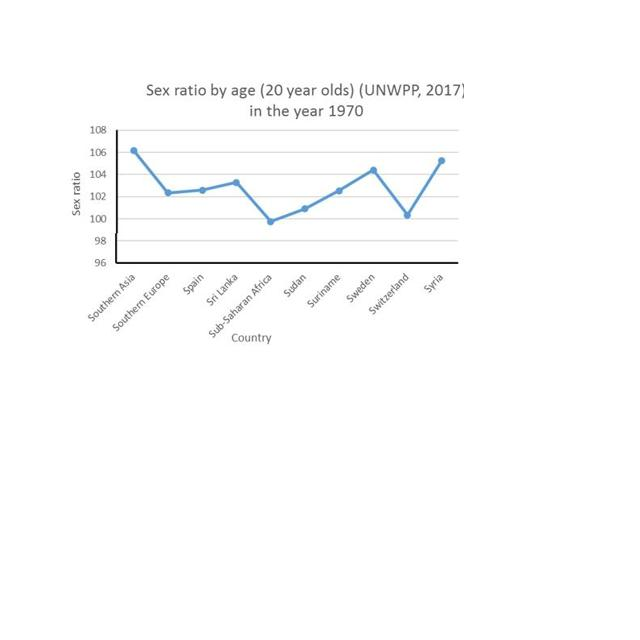Graph: (66, 82, 464, 346)
